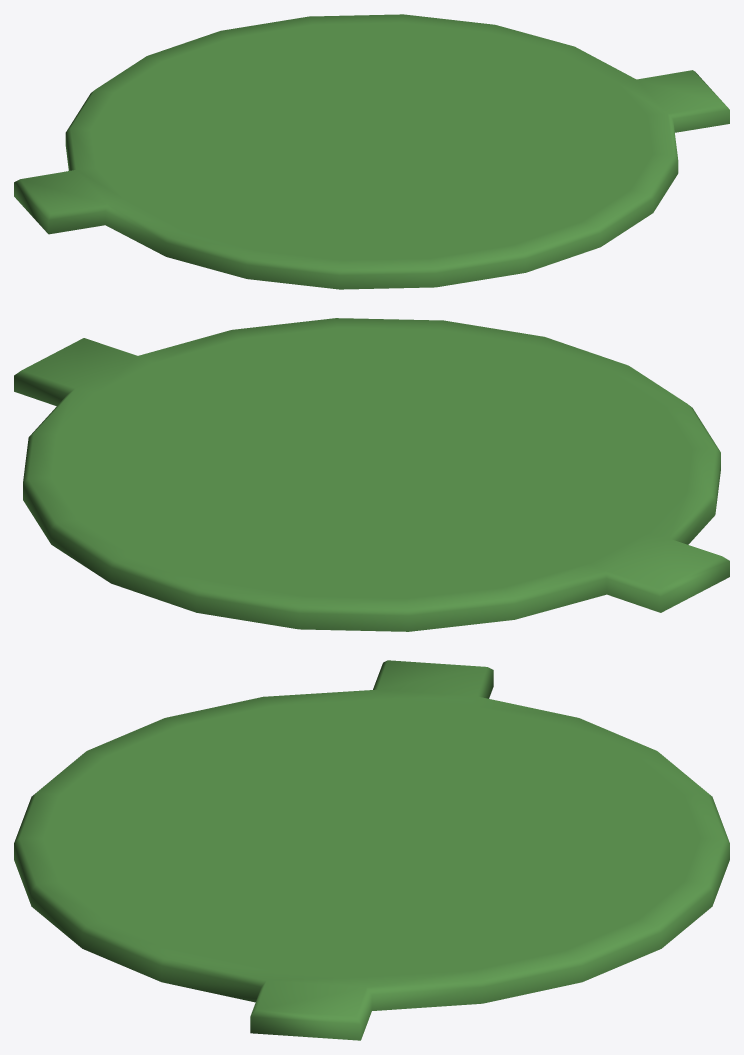
File: sewer 1 lod0.FBX
The picture shows the model from 3 angles, top to bottom: view 1: azimuth 30°, elevation 25°; view 2: azimuth 150°, elevation 25°; view 3: azimuth 270°, elevation 25°; orthographic projection. The views are drawn at different scales.
Parts seen in each view (by area): view 1: Object342; view 2: Object342; view 3: Object342.
Boxes of the visible parts, x1,y1,x2,y2 form: Object342: (14, 14, 729, 289); Object342: (14, 318, 729, 631); Object342: (14, 660, 729, 1040).
Size of the model in its own units: 1.09 by 0.03 by 0.91.
